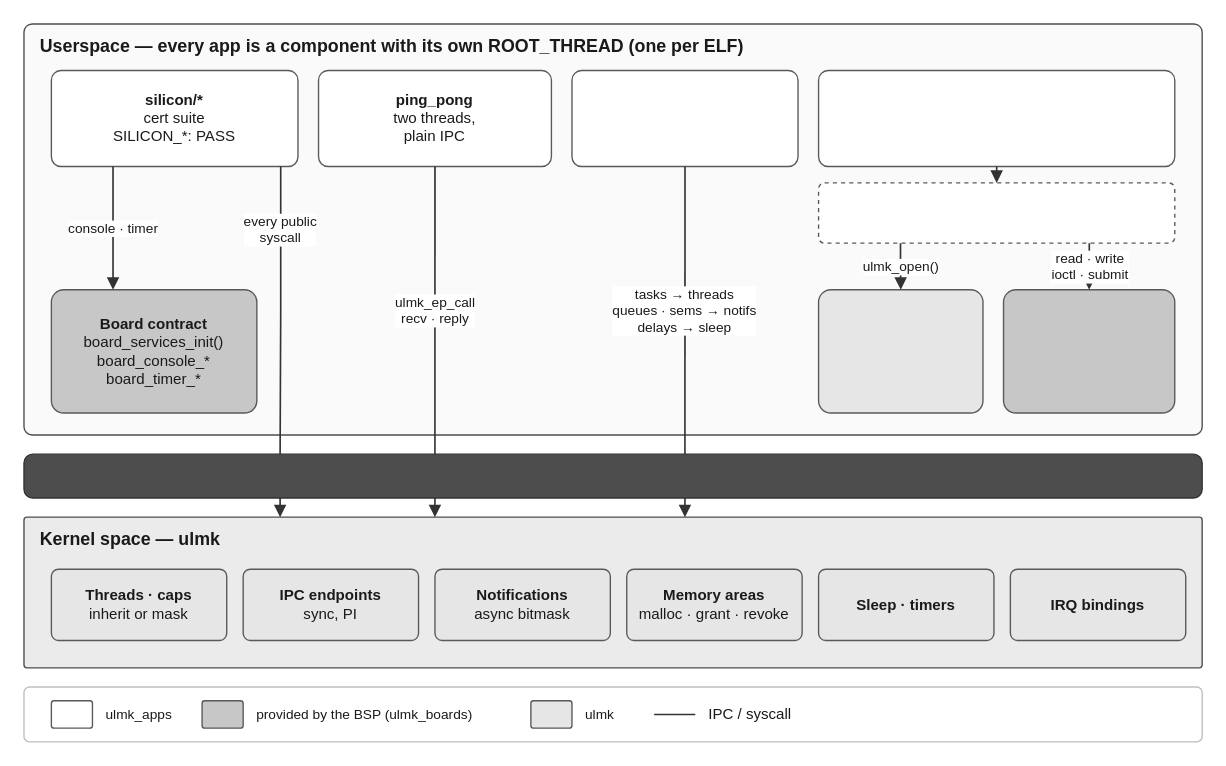
The diagram is 1226 pixels wide and 766 high, and some of its shapes have lost their labels. The shapes that lost their labels are listed below. From the top down, each one's centre as x and y in pixels, then its label:
At pixel 684 117: "freertos/ FreeRTOS API shim (library)".
At pixel 996 117: "display_hello · display_touch lvgl_benchmark portable, no board headers".
At pixel 996 212: "ulmk_device_classes display · input · can · pwm · adc · gpio".
At pixel 900 350: "Device manager ulmk component path → endpoint".
At pixel 1088 350: "DM adapters *_dm + board_devices drive the board's drivers".
At pixel 612 475: "Syscall gateway — the only way any app reaches the kernel".
